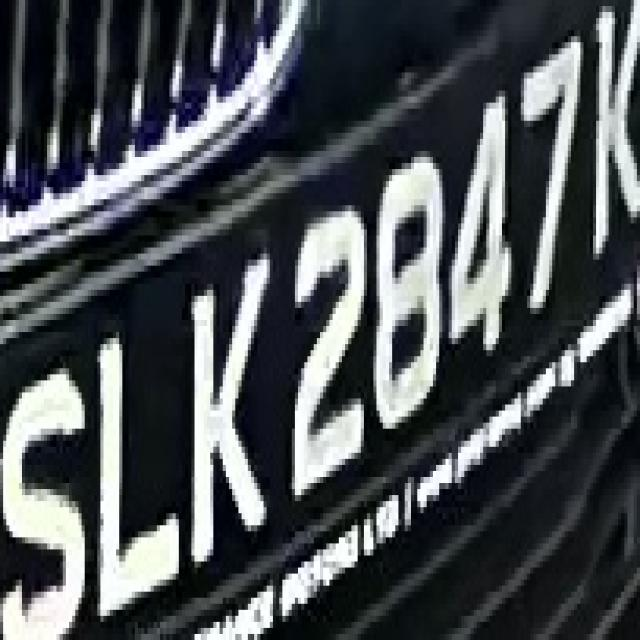2: (286, 205, 376, 495)
4: (446, 84, 518, 374)
7: (508, 48, 596, 326)
8: (370, 145, 458, 435)
K: (185, 260, 276, 568), (583, 0, 637, 284)
L: (94, 308, 185, 628)
S: (13, 350, 91, 640)
